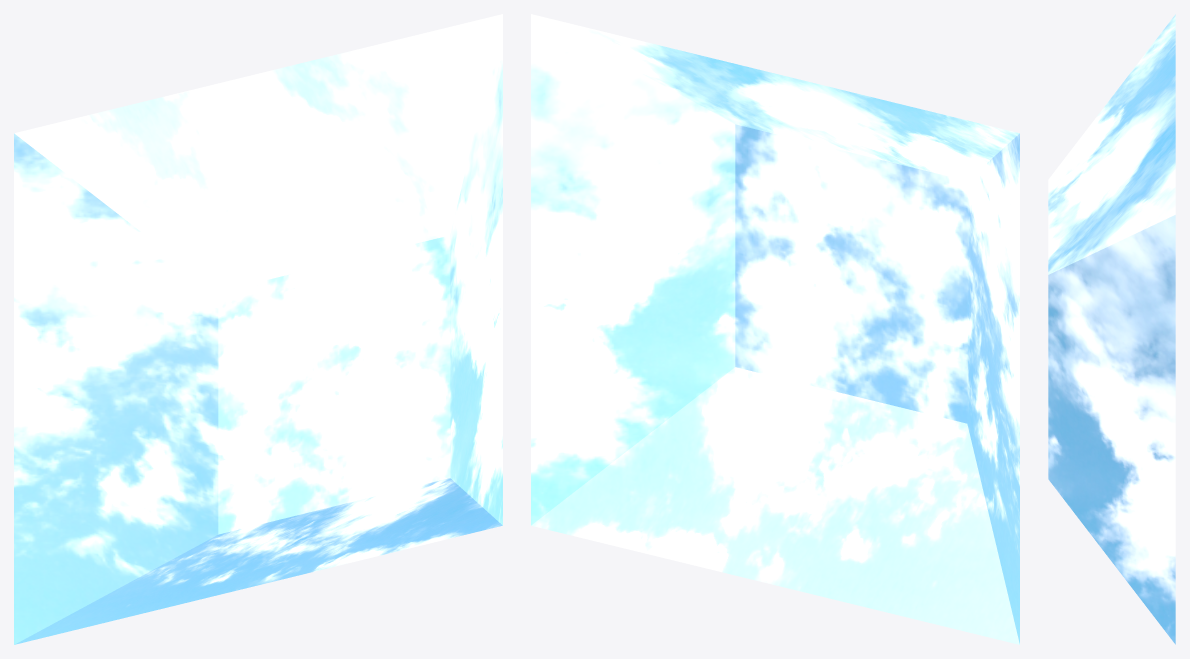
File: sky.glb
3 views of the same model, side by side, from view 1: azimuth 30°, elevation 25°; view 2: azimuth 150°, elevation 25°; view 3: azimuth 270°, elevation 25° (orthographic). The views are drawn at different scales.
Visible parts, largest first — view 1: Cube; view 2: Cube; view 3: Cube.
Boxes of the visible parts, x1,y1,x2,y2 form: Cube: (14,14,502,644); Cube: (531,14,1019,644); Cube: (1048,14,1175,644).
Bounding box in the file's own units: 167 × 167 × 44.73.
